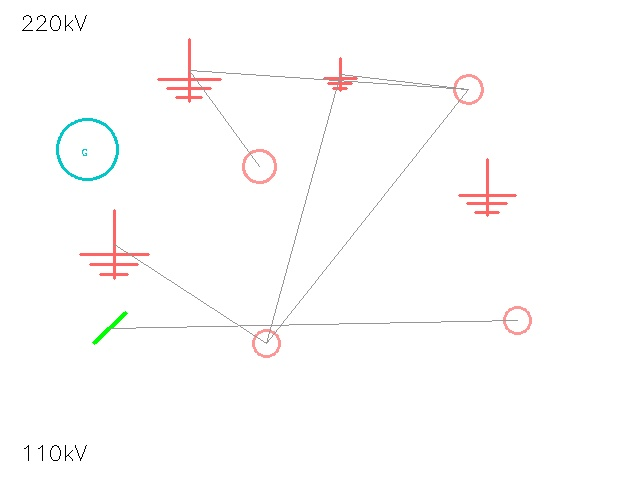busbar: (84, 302, 136, 354)
current_transformer: (226, 133, 292, 199), (439, 60, 497, 118)
generator: (57, 119, 117, 179)
ground: (80, 210, 148, 278), (158, 39, 220, 101), (459, 159, 515, 215), (324, 58, 356, 90)
voltage_transformer: (239, 316, 293, 370), (490, 293, 544, 347)
